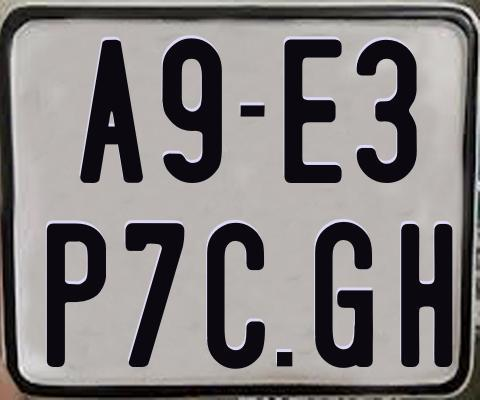3: (356, 40, 416, 189)
7: (123, 223, 187, 371)
9: (162, 37, 226, 184)
A: (78, 39, 145, 184)
C: (206, 221, 265, 373)
E: (283, 38, 342, 183)
G: (314, 219, 375, 366)
H: (401, 224, 457, 370)
P: (47, 221, 110, 370)
